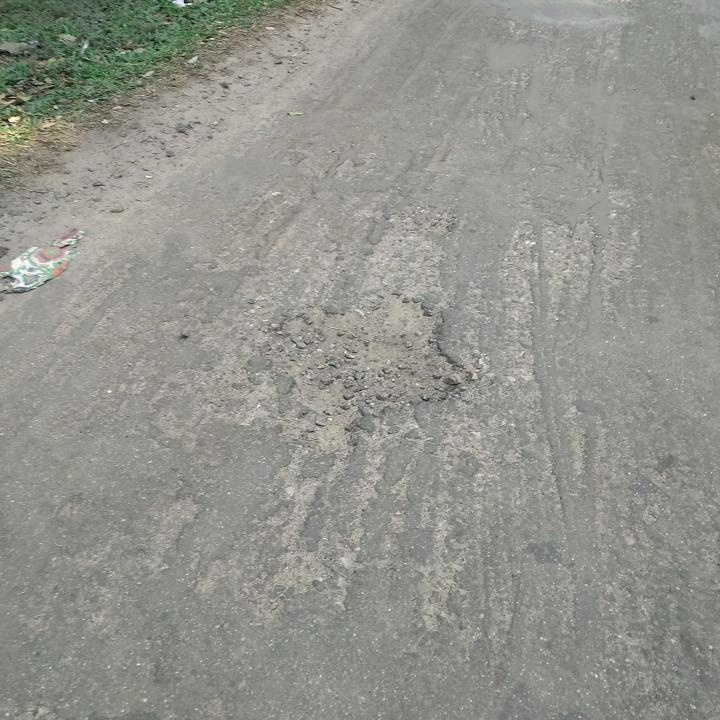pothole: (259, 288, 466, 417)
